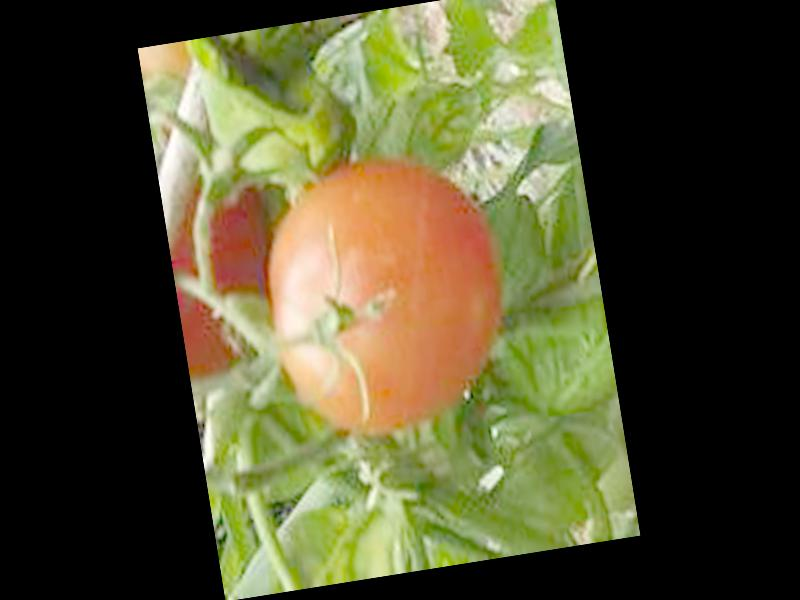Tomato: (250, 148, 514, 445)
